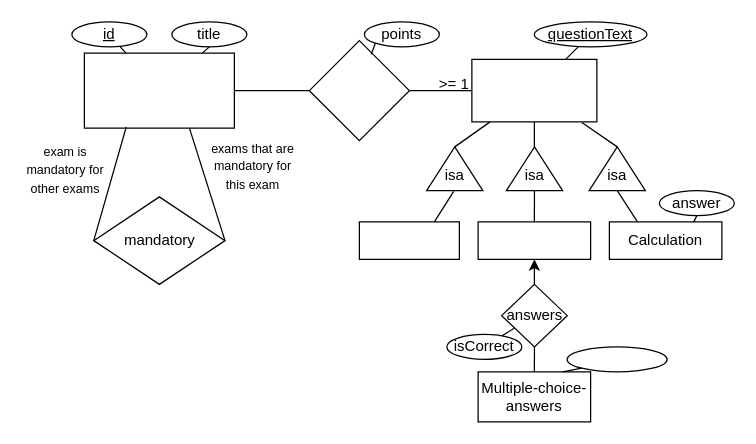
The diagram is 756 pixels wide and 444 high, and some of its shapes have lost their labels. Each missing label, with the centre of its shape:
answerText: the point at 616,359
Essay: the point at 408,240
Exams: the point at 158,90
from_exam: the point at 358,90
Multiple-choice: the point at 534,240
Questions: the point at 534,90
